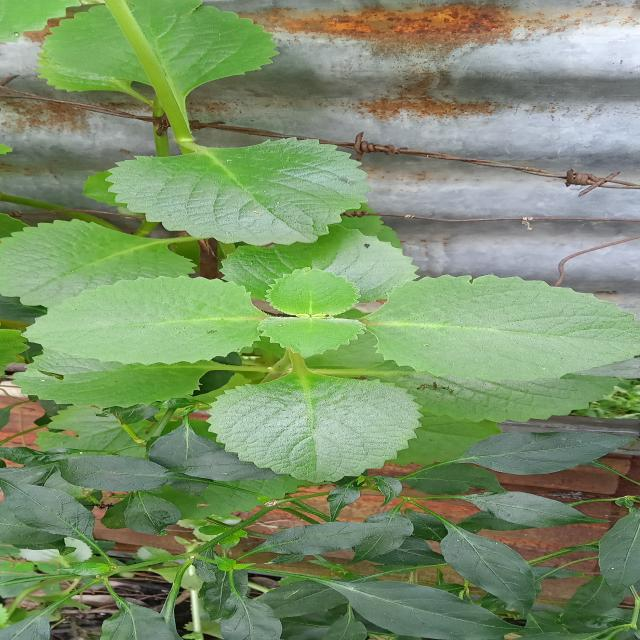Oregano: (346, 254, 640, 397), (70, 129, 397, 251), (199, 363, 493, 497), (373, 255, 640, 387), (18, 0, 302, 123), (25, 274, 315, 380), (0, 206, 189, 314), (234, 274, 390, 363)
